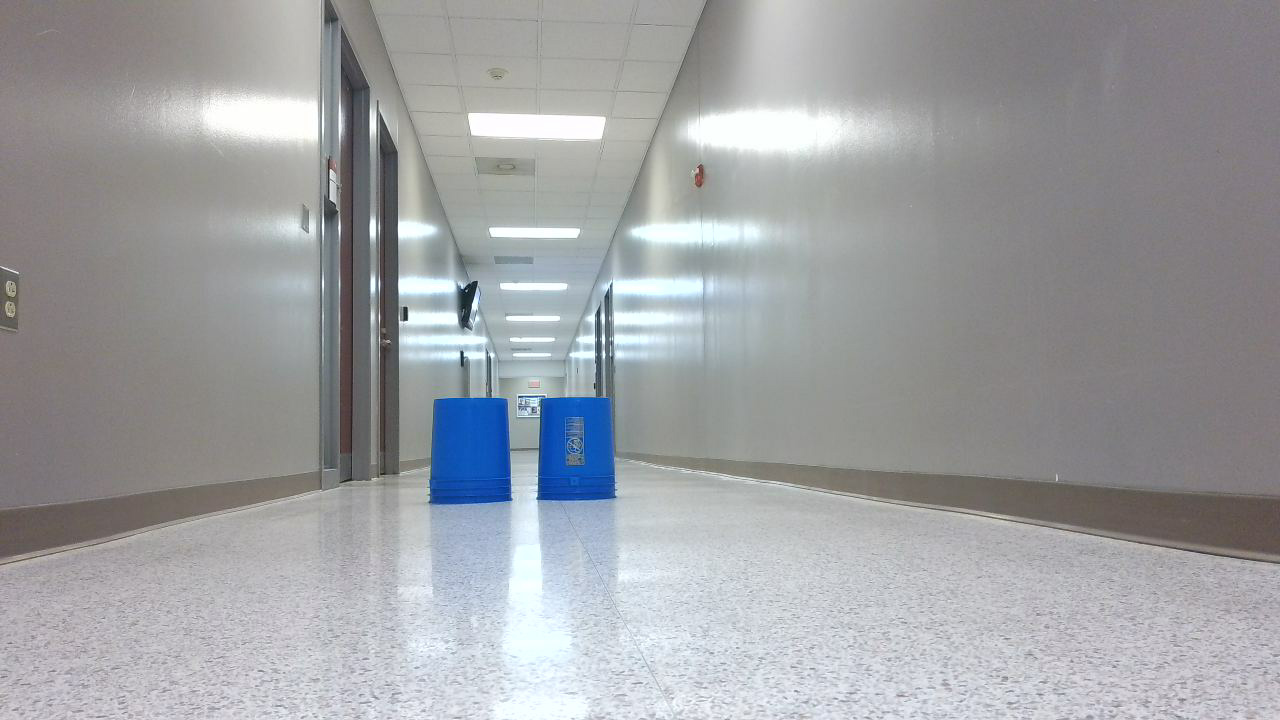blue_bucket: (436, 400, 519, 511), (539, 401, 624, 508)
